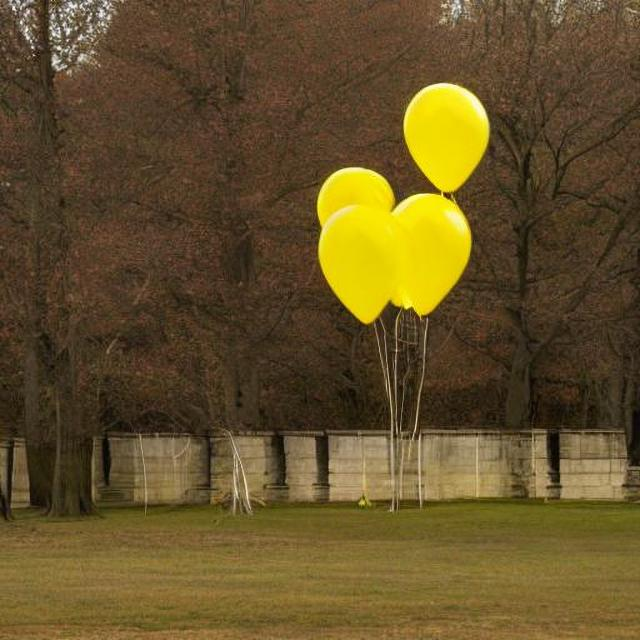balloon: (274, 66, 494, 316)
